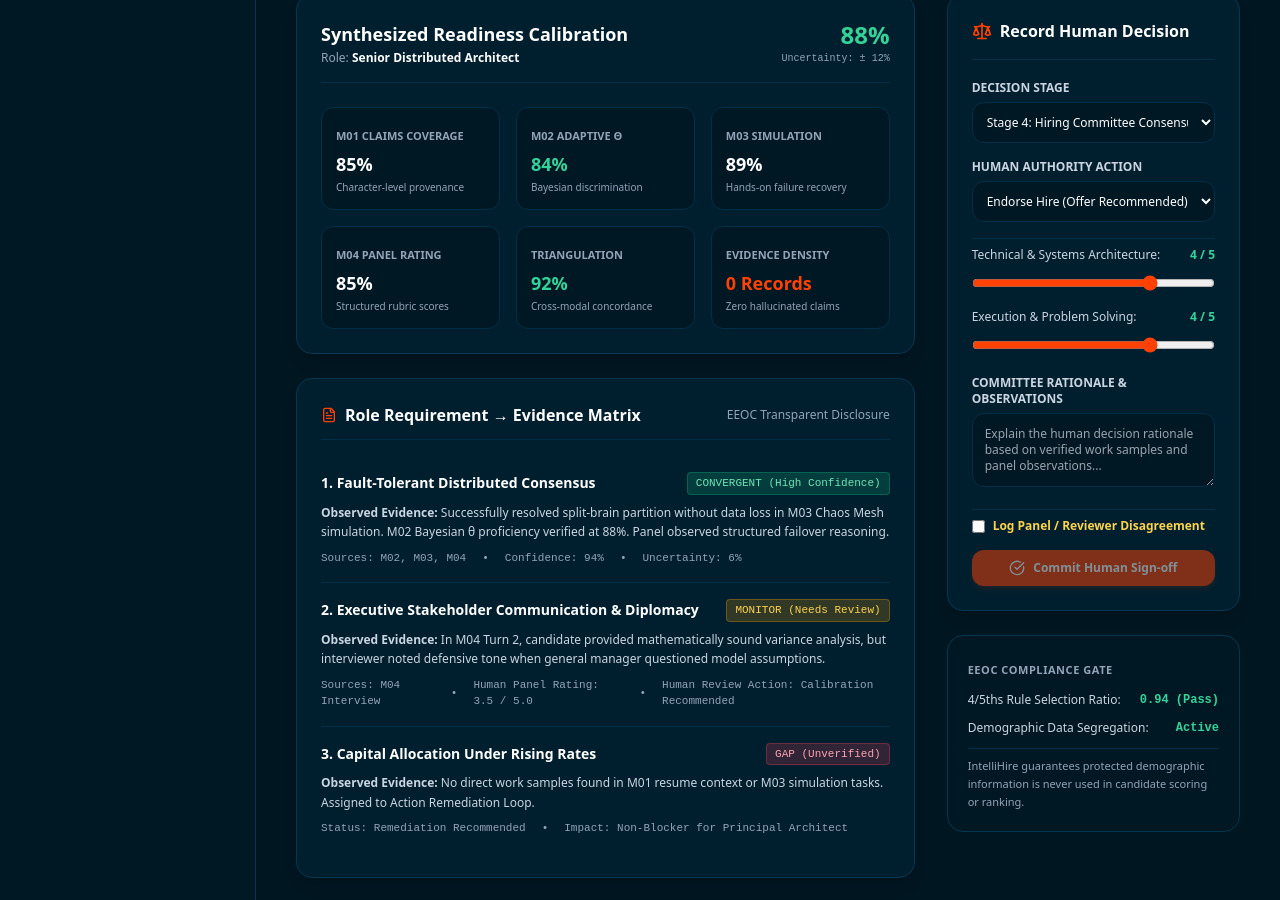
Test case: Priority 17: M05 Candidate Readiness + Evidence Synthesis + Governance UI & Flow Tests › 3. Submits human committee review decision with rationale and rating sliders
(page scrolled)
Check: the heading "Record Human Decision" is shown, box top-left (1000, 19), bottom-right (1190, 43)
Replace the text in the text box with placeholder "Explain the human decision rationale based on verified work samples" with "Candidate demonstrated verified distributed resilience in M03 and solid theoretical consensus depth in M02." at (1093, 450), box top-left (972, 413), bottom-right (1215, 487)
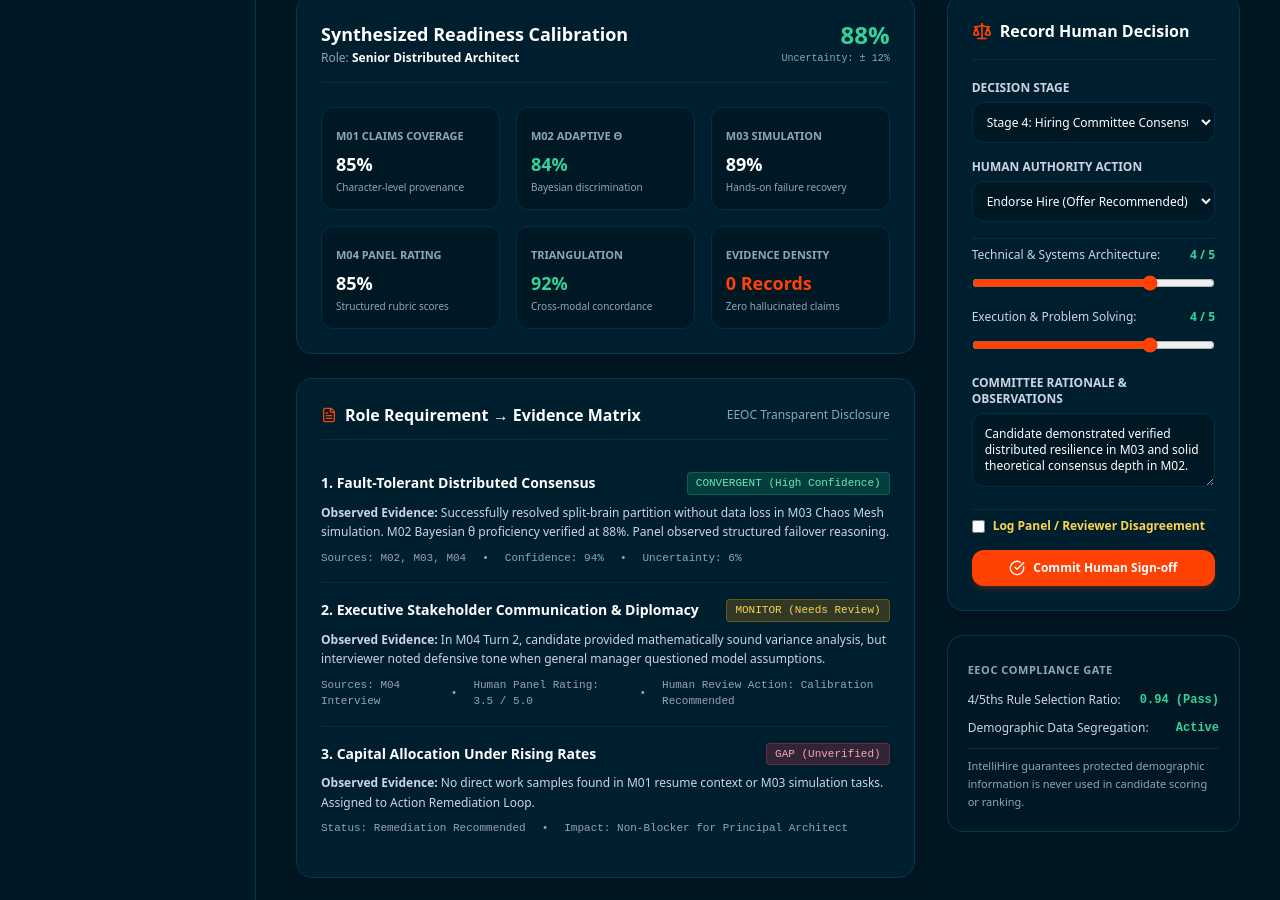
Click the button "Commit Human Sign-off" at (1093, 568), box top-left (972, 550), bottom-right (1215, 586)
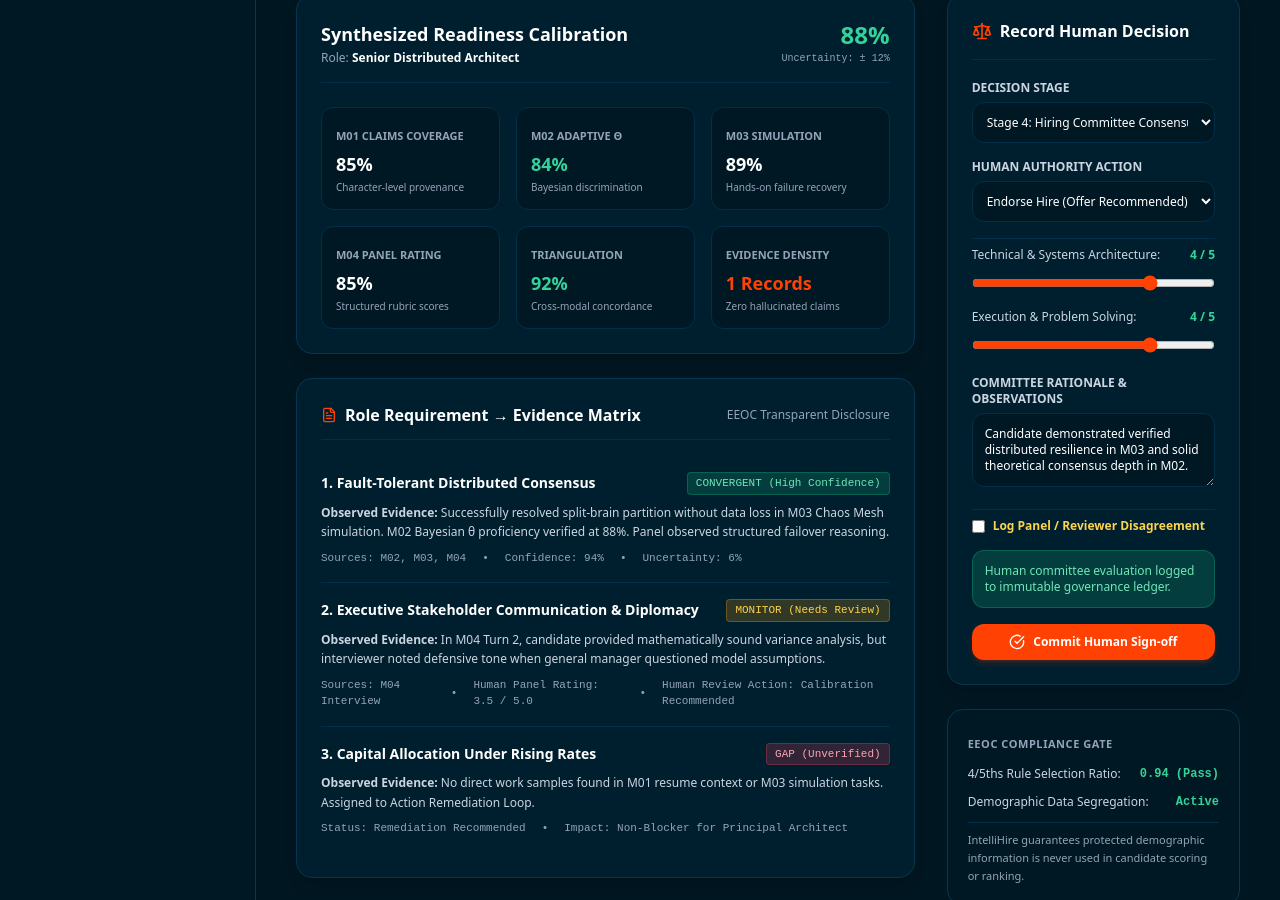
Check: the text "Human committee evaluation logged to immutable governance ledger" is shown, box top-left (985, 562), bottom-right (1194, 595)
